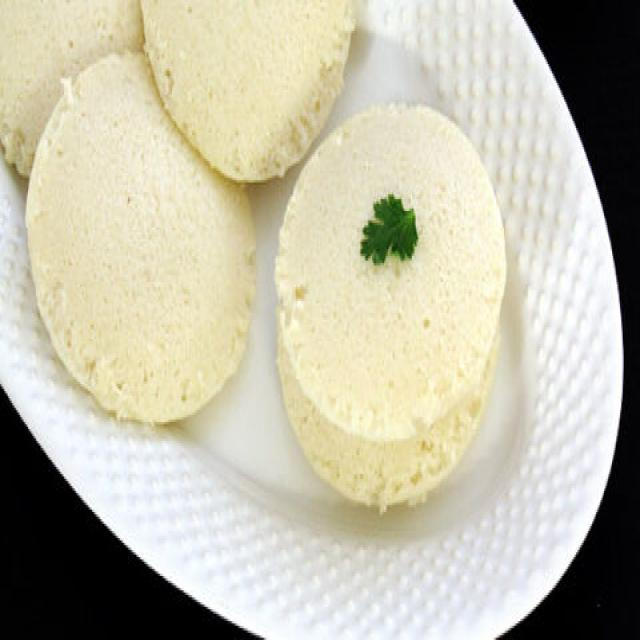idli: (271, 100, 508, 493), (25, 49, 255, 420), (136, 0, 360, 180), (0, 0, 145, 170)
